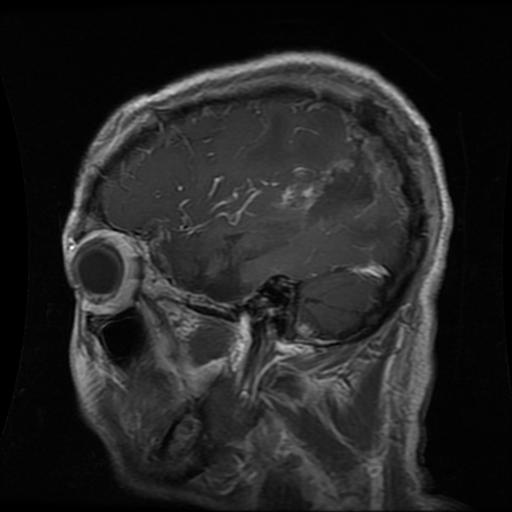Gliomia_tumour: (305, 150, 379, 220)
